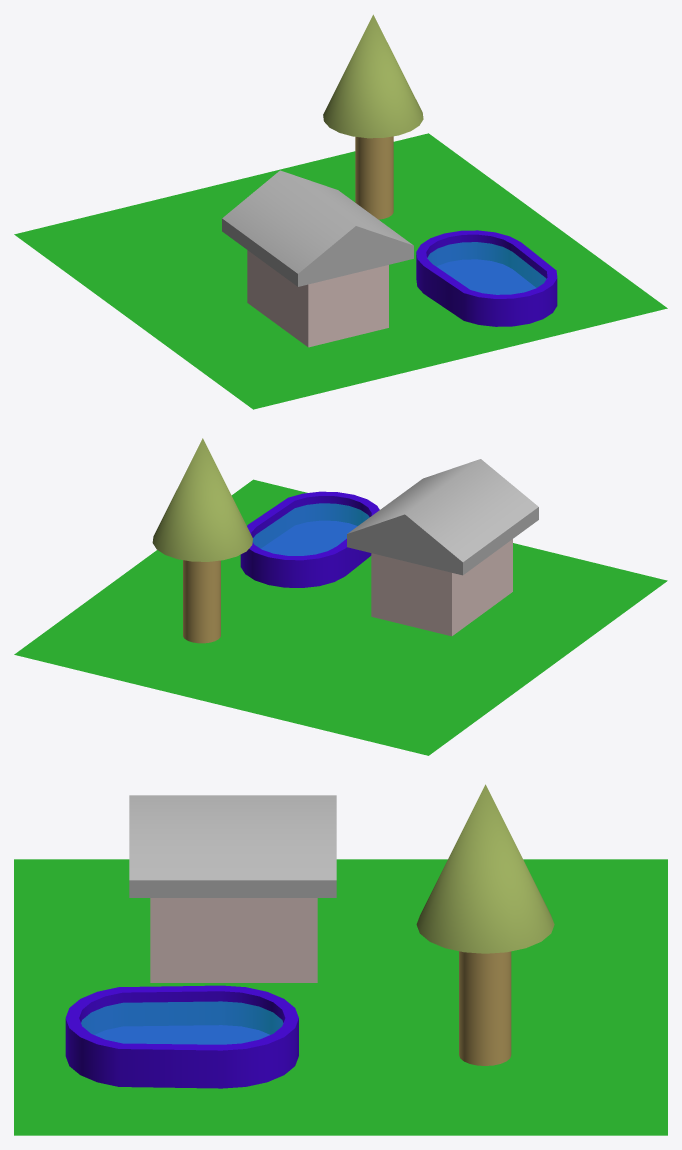
File: yard.DAE
The picture shows the model from 3 angles, top to bottom: view 1: azimuth 30°, elevation 25°; view 2: azimuth 150°, elevation 25°; view 3: azimuth 270°, elevation 25°; orthographic projection. The views are drawn at different scales.
Visible parts, largest first — view 1: grass1, roof, pool1, house, tree, water1, trunk; view 2: grass1, roof, pool1, house, tree, water1, trunk; view 3: grass1, pool1, roof, house, tree, water1, trunk.
Part boxes in pixels (x1=…): grass1: x1=14, y1=133, x2=667, y2=409; roof: x1=222, y1=170, x2=413, y2=286; pool1: x1=416, y1=230, x2=557, y2=326; house: x1=247, y1=250, x2=388, y2=347; tree: x1=323, y1=14, x2=423, y2=138; water1: x1=427, y1=242, x2=546, y2=294; trunk: x1=355, y1=136, x2=393, y2=219; grass1: x1=14, y1=479, x2=667, y2=755; roof: x1=347, y1=459, x2=538, y2=575; pool1: x1=240, y1=491, x2=379, y2=587; house: x1=371, y1=539, x2=512, y2=636; tree: x1=152, y1=438, x2=252, y2=561; water1: x1=252, y1=503, x2=369, y2=555; trunk: x1=183, y1=560, x2=220, y2=643; grass1: x1=14, y1=859, x2=667, y2=1135; pool1: x1=65, y1=985, x2=298, y2=1088; roof: x1=129, y1=795, x2=336, y2=897; house: x1=150, y1=898, x2=317, y2=982; tree: x1=416, y1=784, x2=554, y2=953; water1: x1=81, y1=1001, x2=283, y2=1044; trunk: x1=459, y1=951, x2=511, y2=1065.
Bounding box in the file's own units: 24.1 × 10.97 × 24.08.
